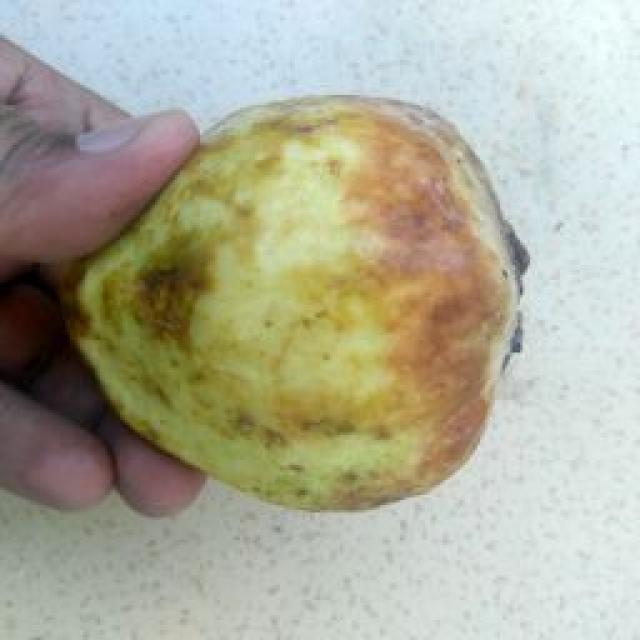Bad_Guava: (61, 96, 528, 509)
